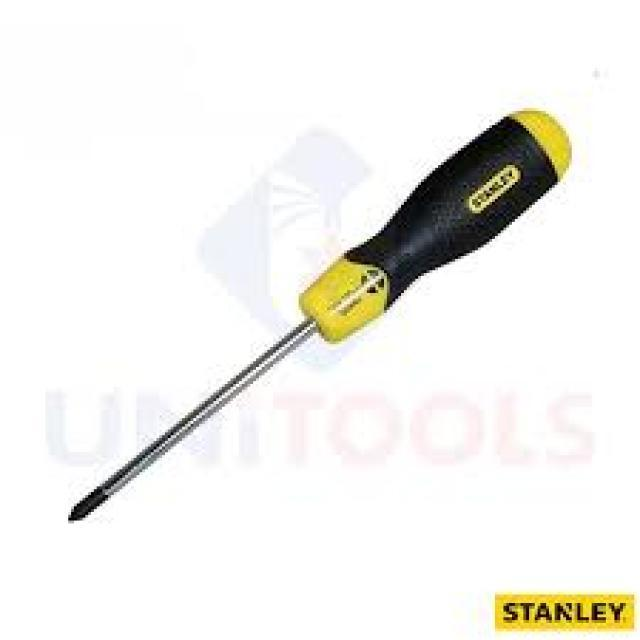screwdriver: (63, 107, 570, 524)
